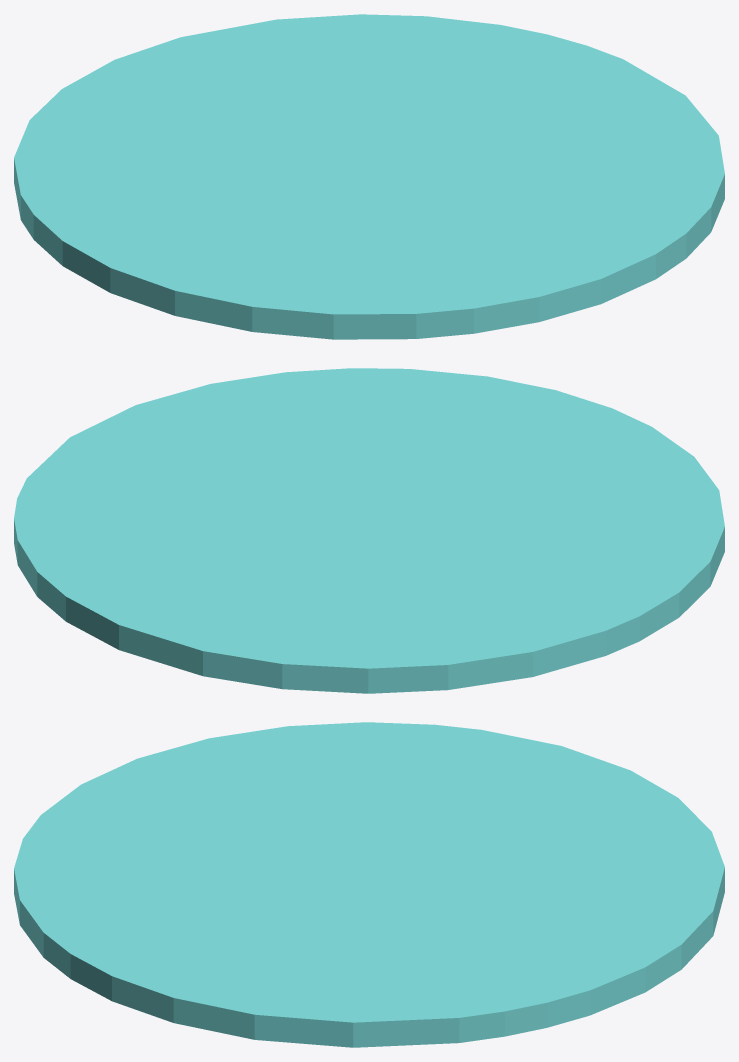
Rendered from WaterCircle_2020_04_06.fbx.
3 views of the same model, one above another, from view 1: azimuth 30°, elevation 25°; view 2: azimuth 150°, elevation 25°; view 3: azimuth 270°, elevation 25° (orthographic).
Parts seen in each view (by area): view 1: Water_Circle; view 2: Water_Circle; view 3: Water_Circle.
Boxes of the visible parts, x1,y1,x2,y2 form: Water_Circle: [14, 14, 724, 339]; Water_Circle: [14, 368, 724, 693]; Water_Circle: [14, 722, 724, 1047].
Size of the model in its own units: 21040 by 823 by 21041.
